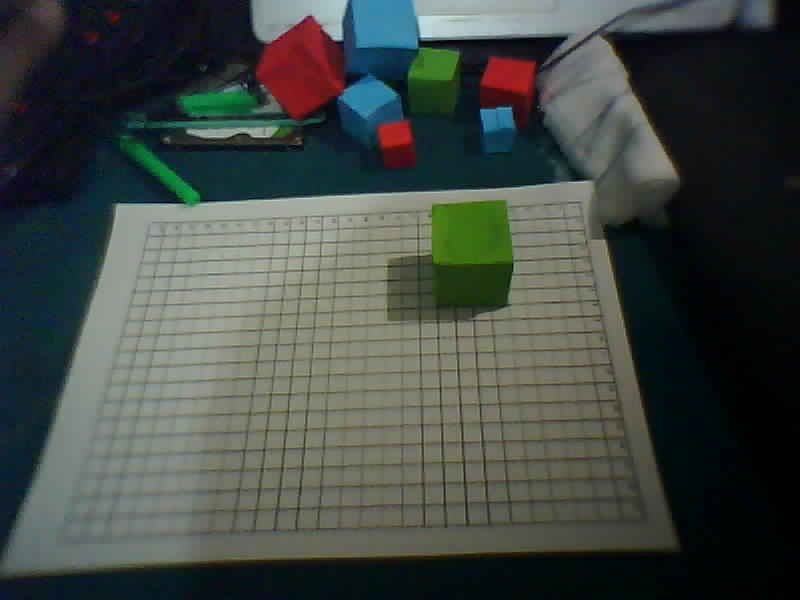LB: (55, 535, 63, 541)
LT: (145, 220, 153, 226)
RB: (640, 518, 648, 524)
RT: (575, 200, 583, 206)
